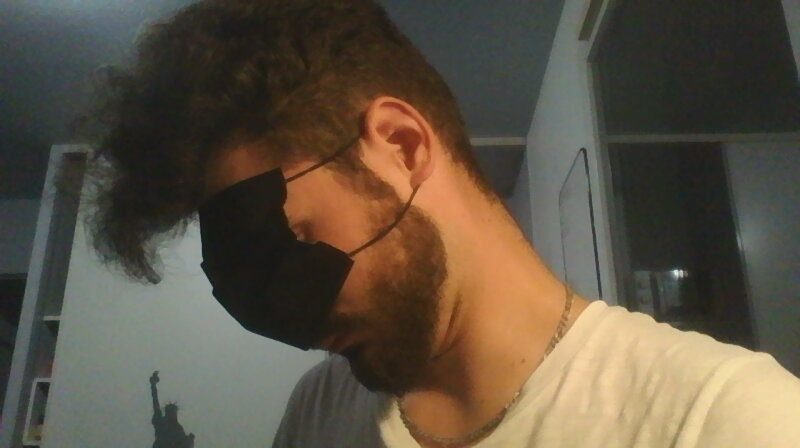with_incorrect_mask: (191, 160, 451, 395)
